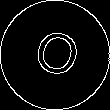O_S: (27, 24, 83, 86)
